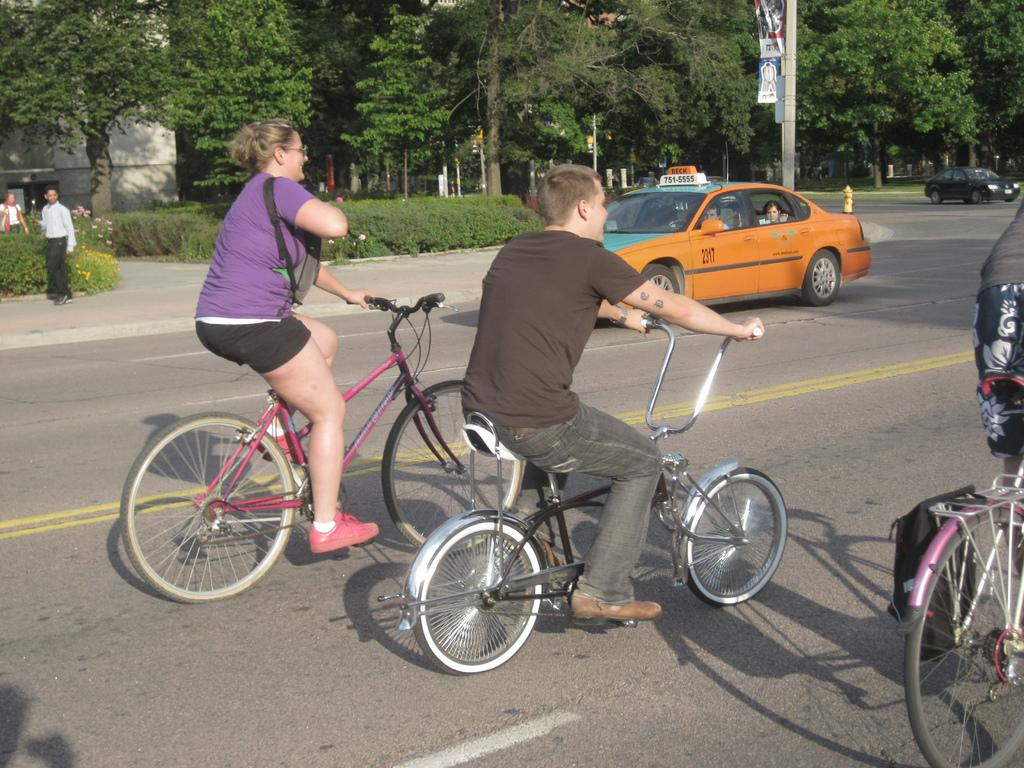taxi: (603, 142, 872, 331)
